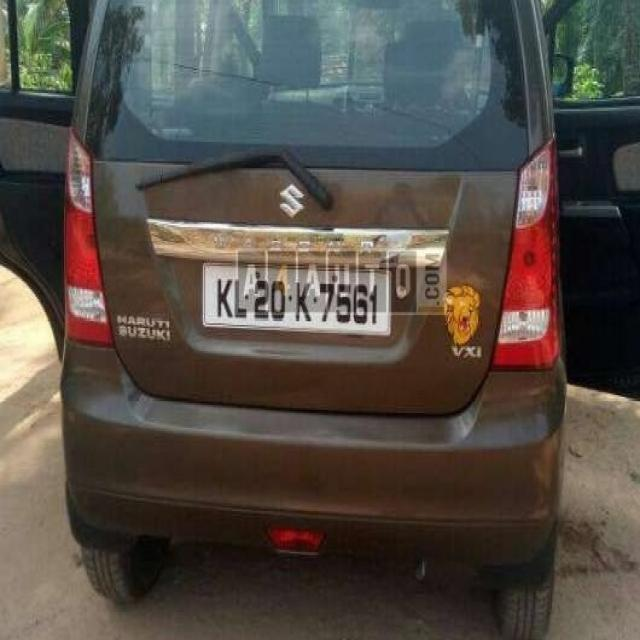Plate: (203, 264, 391, 334)
